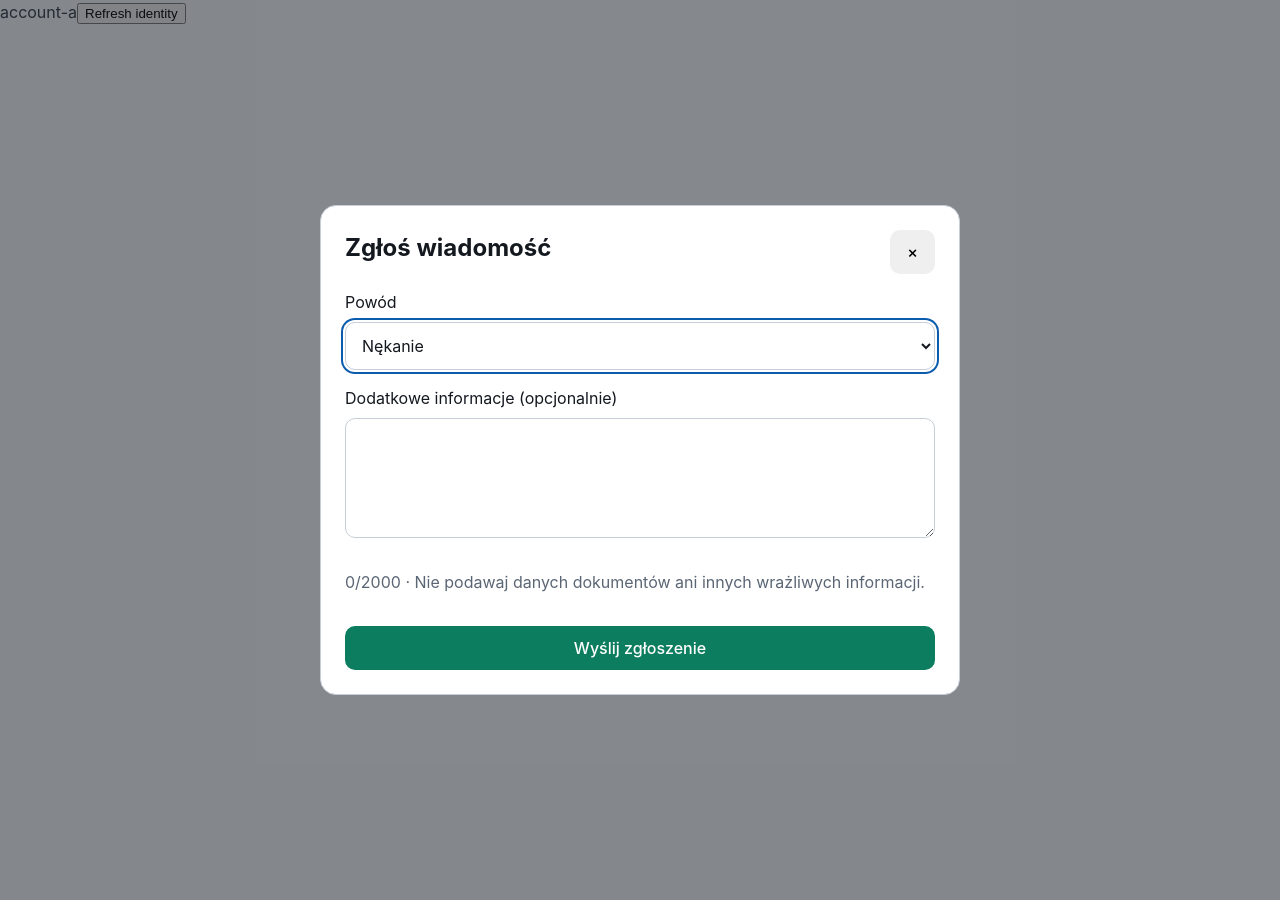
it: report401 login restores same-account draft and requires another explicit report press
Expected: the text named "identity" reads "account-a", [0, 2, 77, 22]
Type "Private report text" into the text box labelled "Dodatkowe informacje (opcjonalnie)" at (640, 478), box [345, 418, 935, 538]
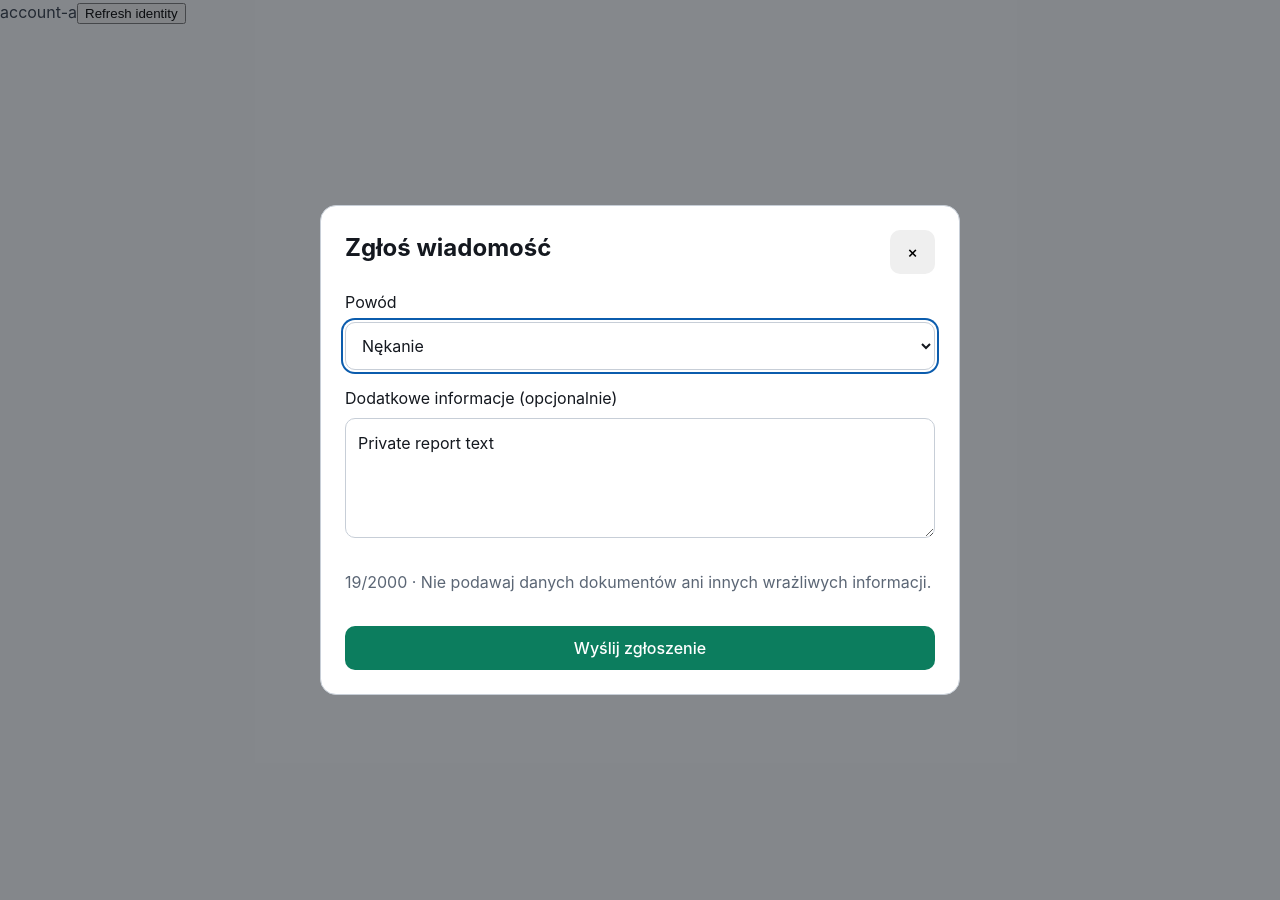
Click the button "Wyślij zgłoszenie" at (640, 648), box [345, 626, 935, 670]
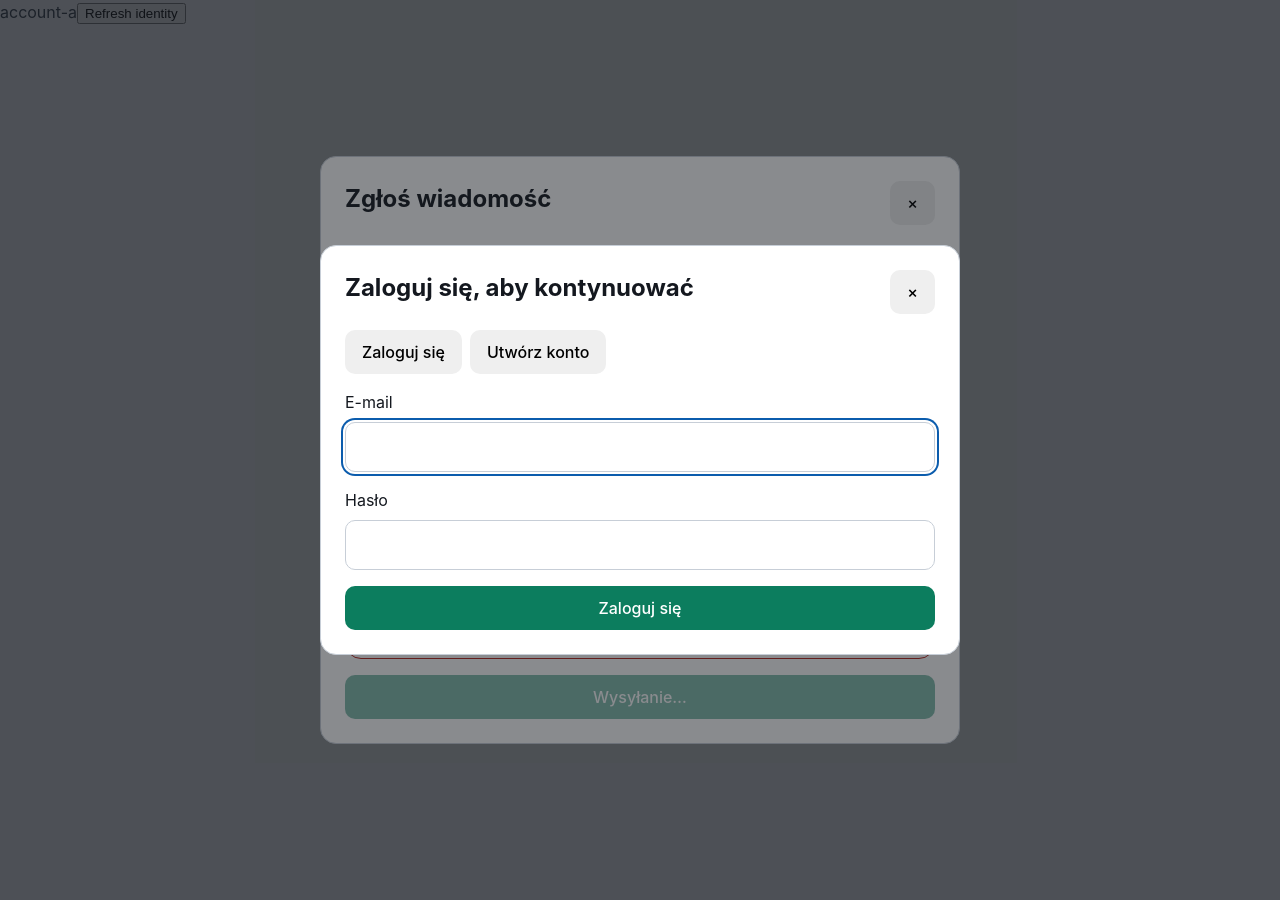
Now the dialog "Zaloguj się, aby kontynuować" is shown, box [320, 245, 960, 655]
Type "synthetic@example.com" into the field labelled "E-mail" at (640, 447), box [345, 422, 935, 472]
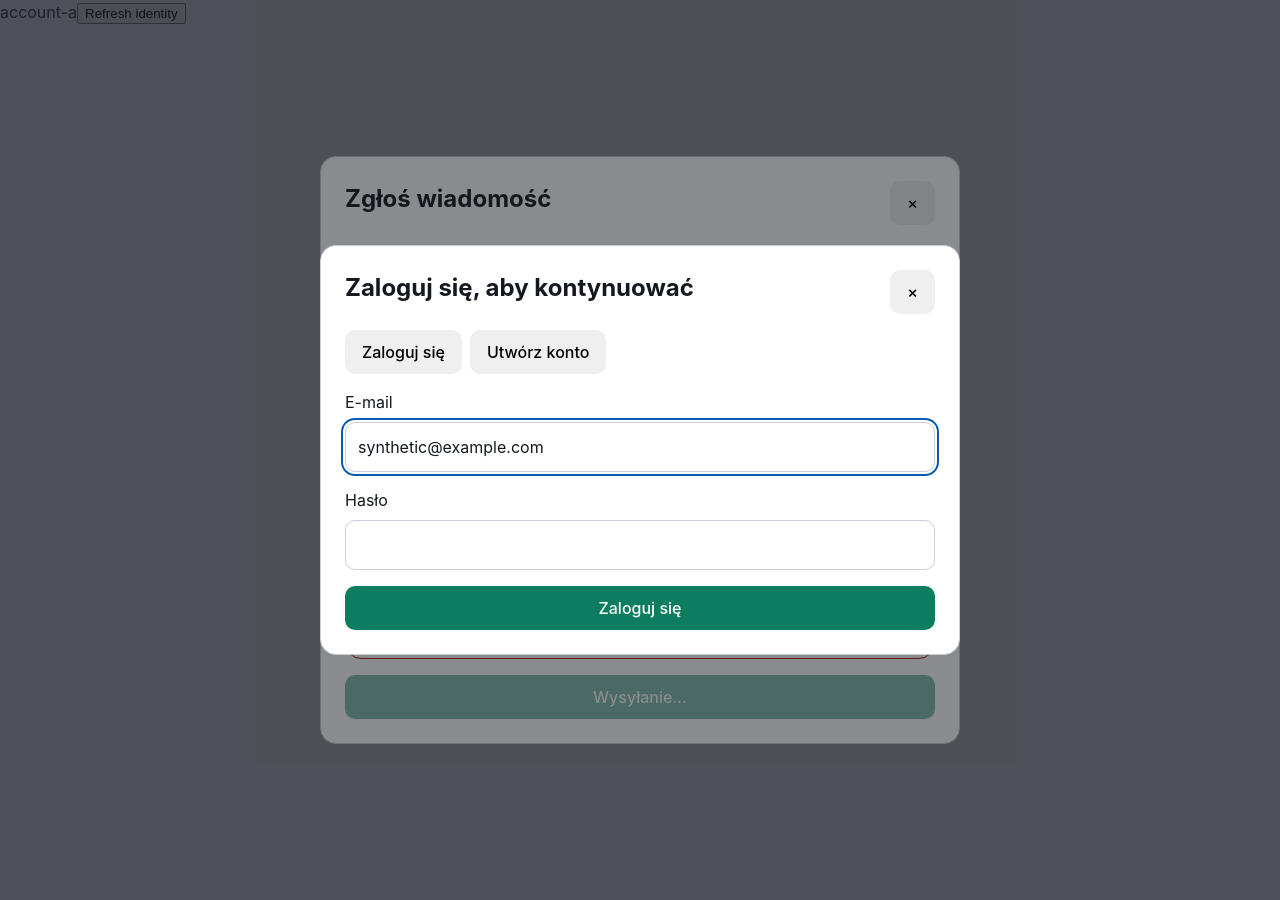
Type "Synthetic-password!" into the password field labelled "Hasło" at (640, 545), box [345, 520, 935, 570]
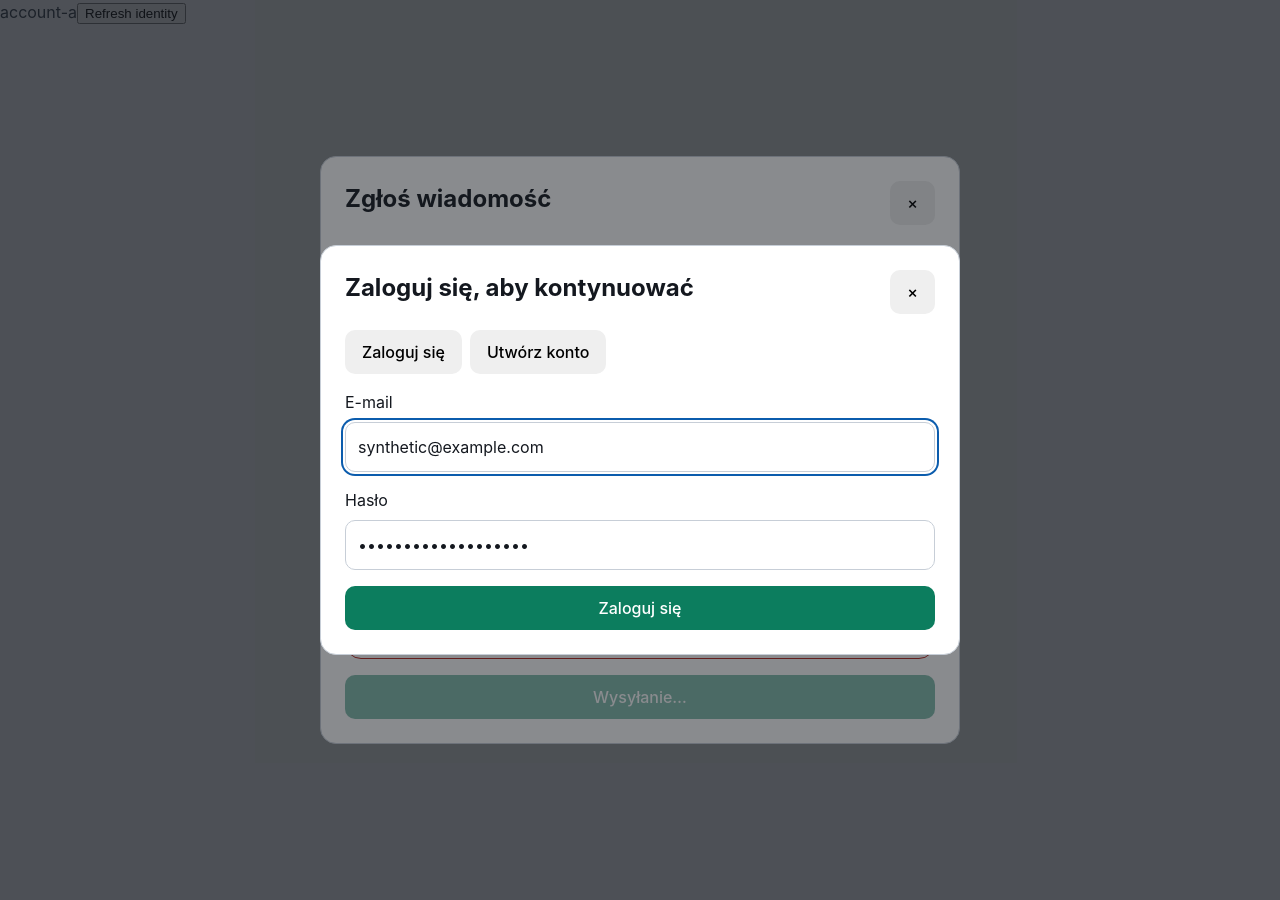
Submit the form labelled "Hasło", box [345, 330, 935, 630]
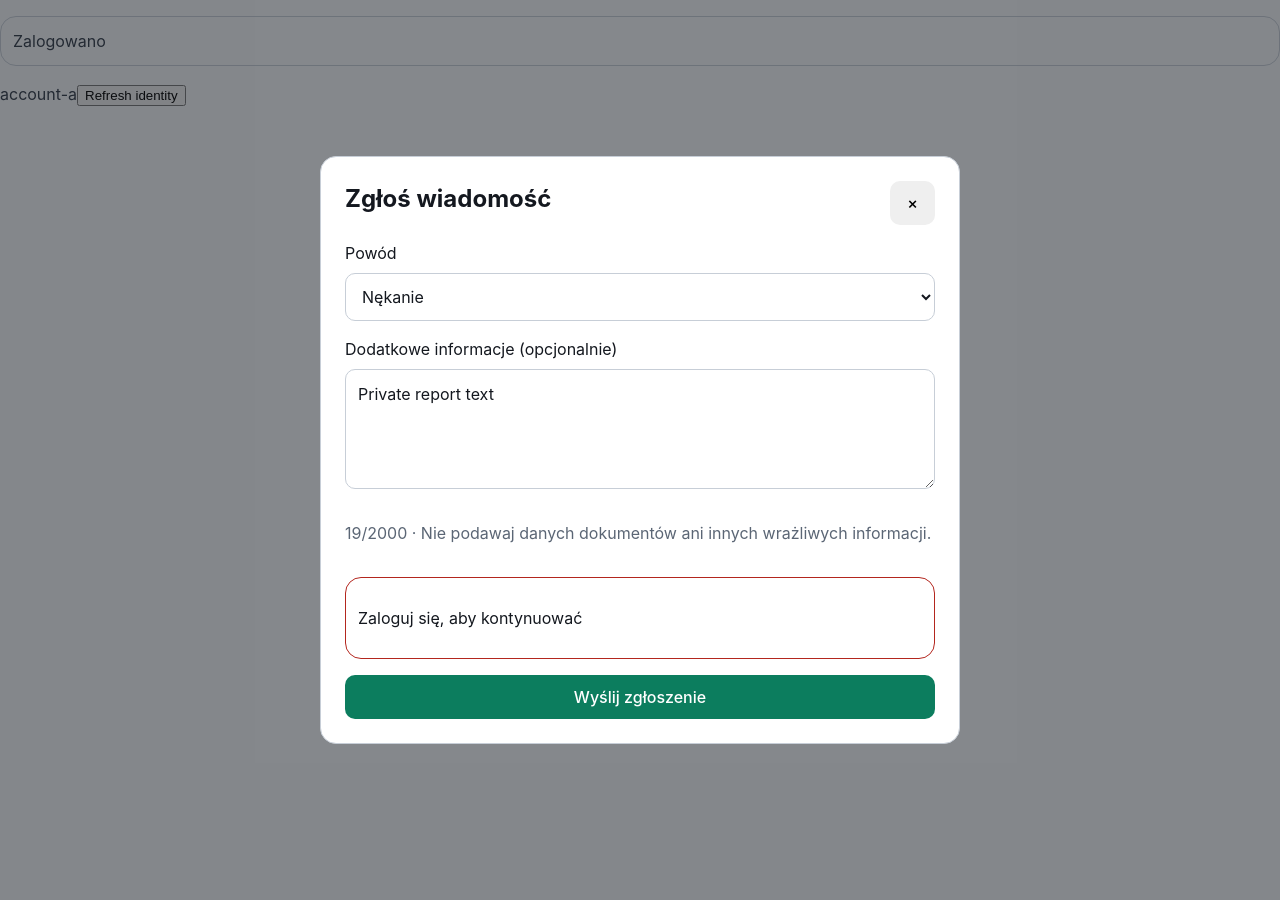
Click the button "Wyślij zgłoszenie" at (640, 697), box [345, 675, 935, 719]
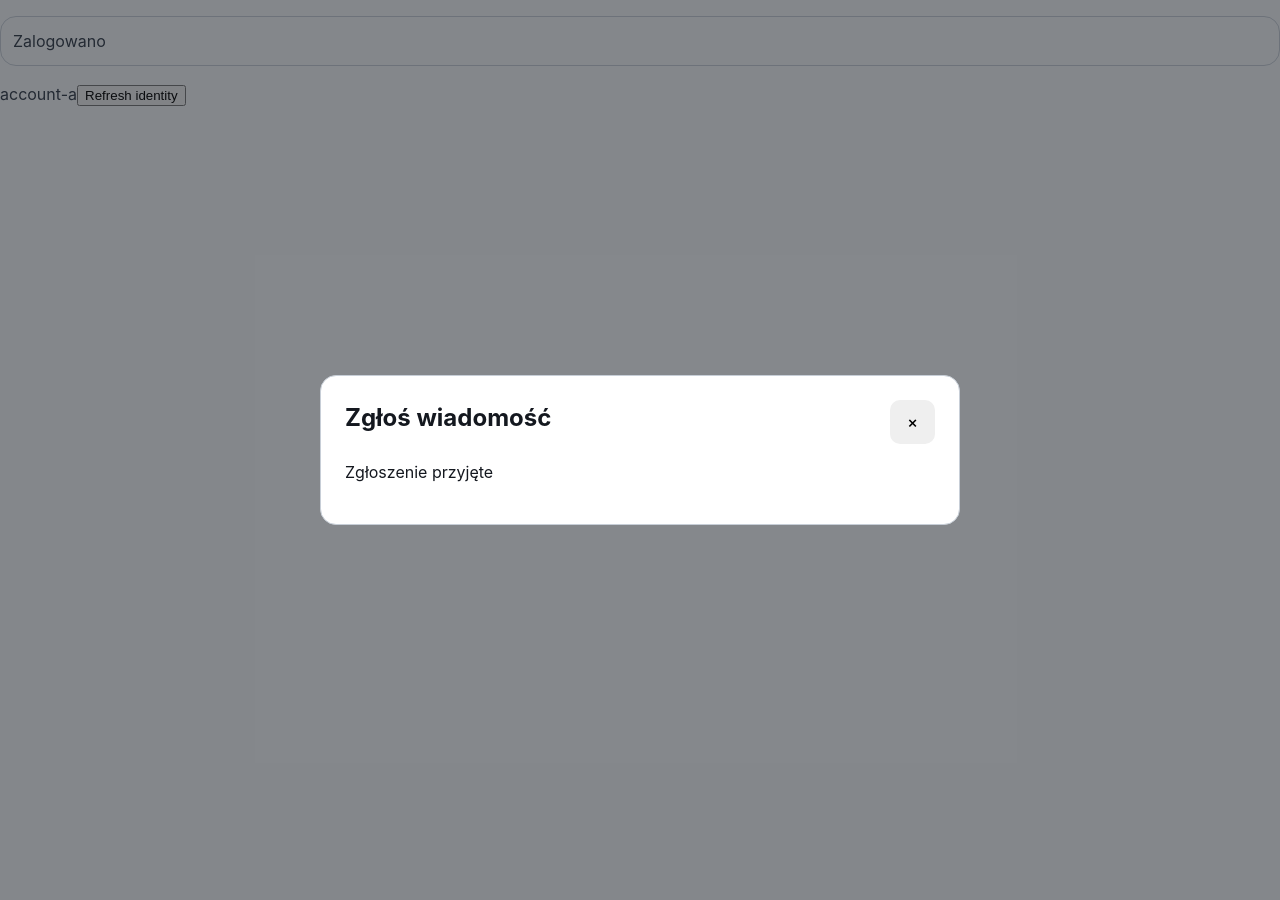
Now the text "Zgłoszenie przyjęte" is shown, box [345, 462, 493, 482]
